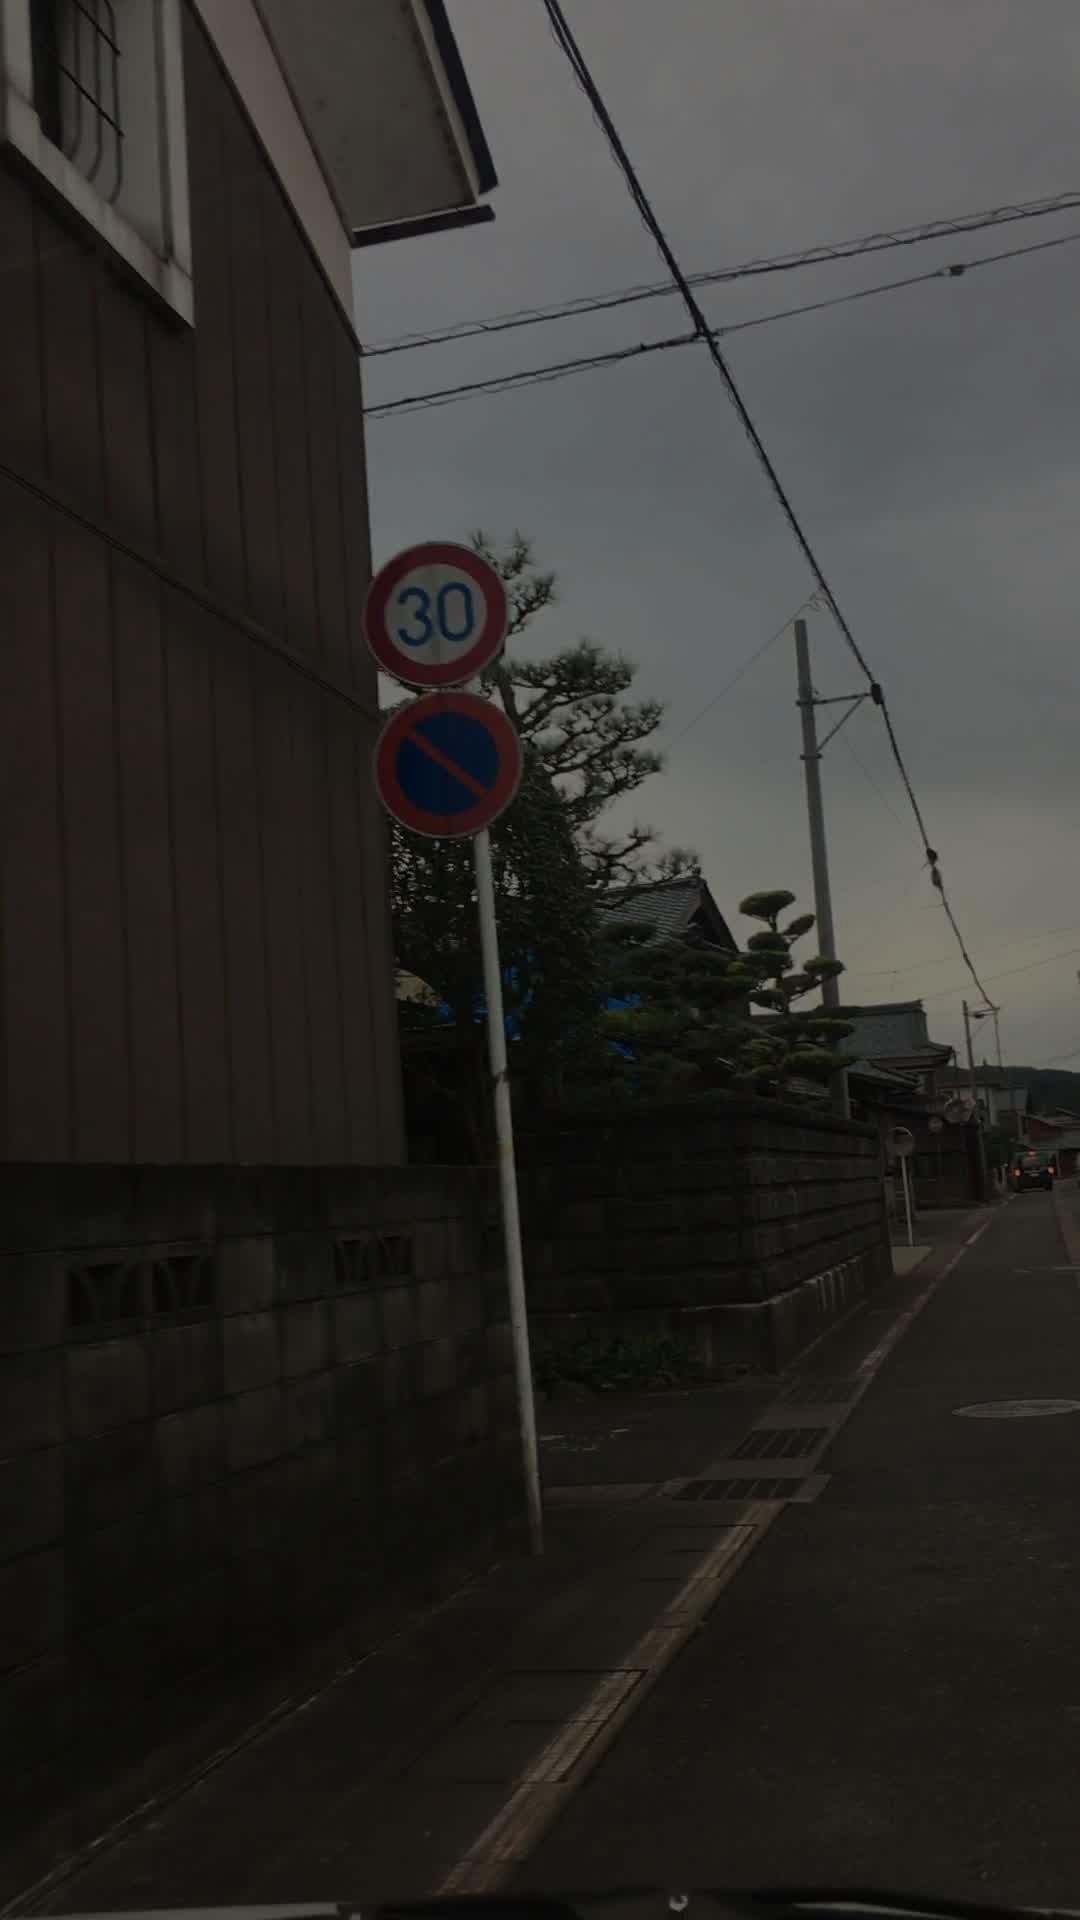Prohibition_sign: (375, 684, 531, 843)
Speed_sign: (360, 545, 520, 682)
